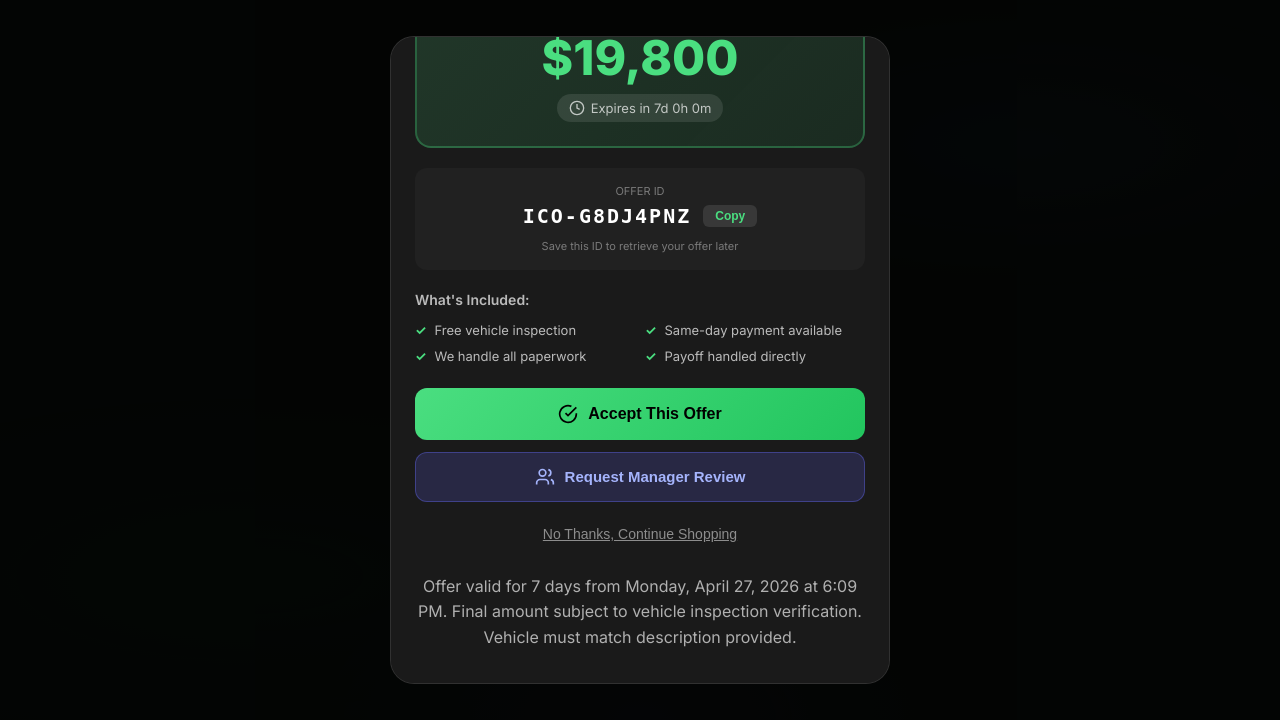
Test: InstantCashOffer Component › Accept Flow › contact form pre-fills customer phone
(page scrolled)
Click the button "Accept This Offer".
click(640, 414)  # box [415,388,865,440]
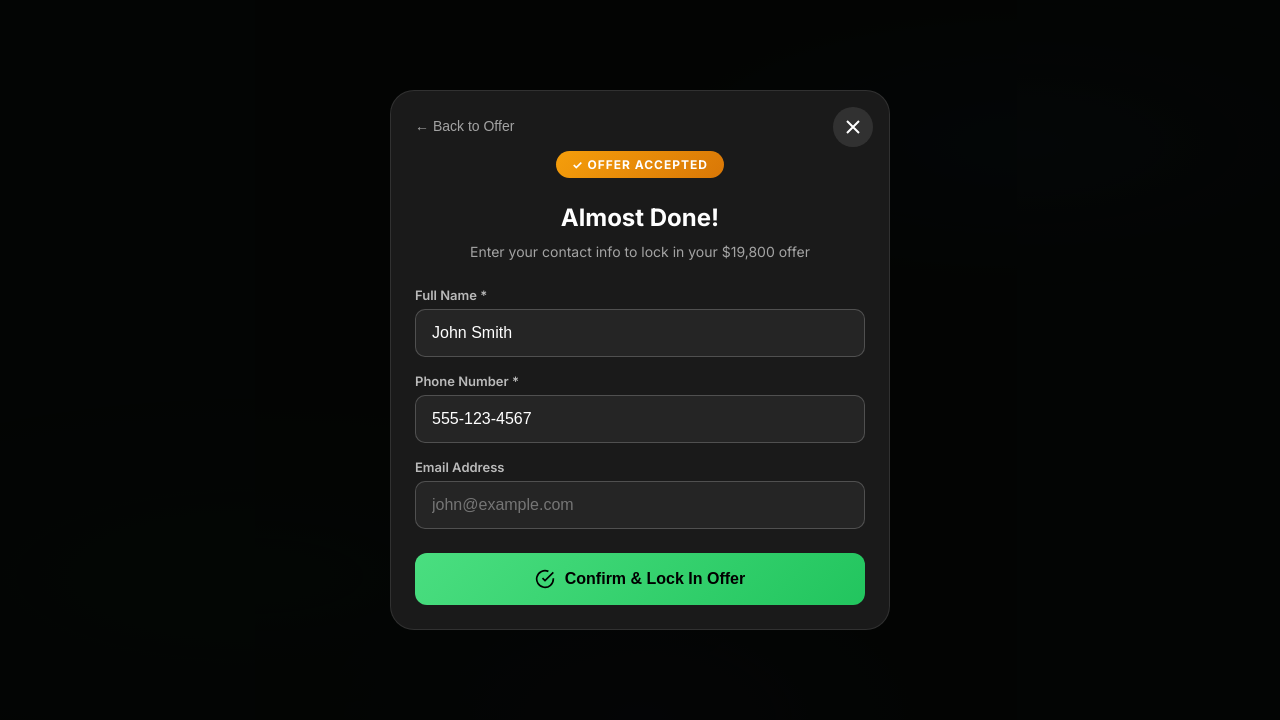
Expected: the field with placeholder "(555) 123-4567" below "Phone Number *" holds "555-123-4567", [415,395,865,443]
